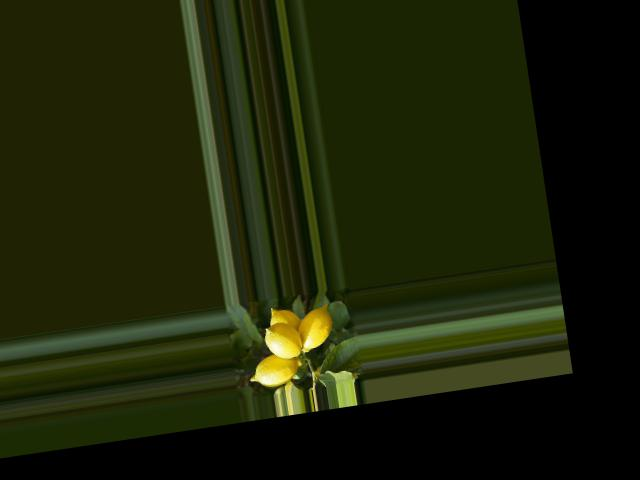lemon: (260, 297, 307, 347)
